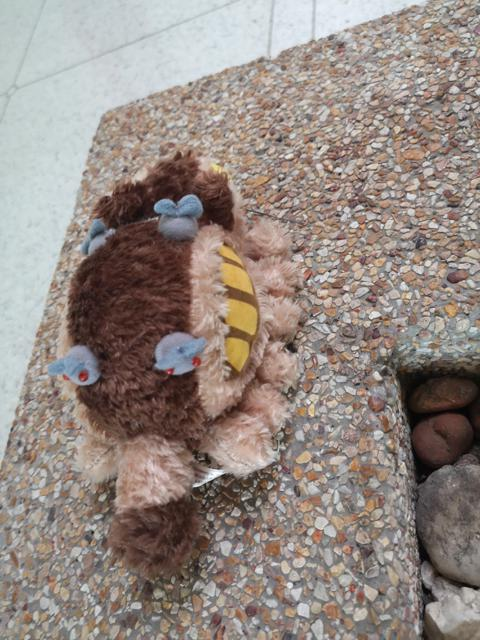nekobus: (45, 141, 309, 592)
